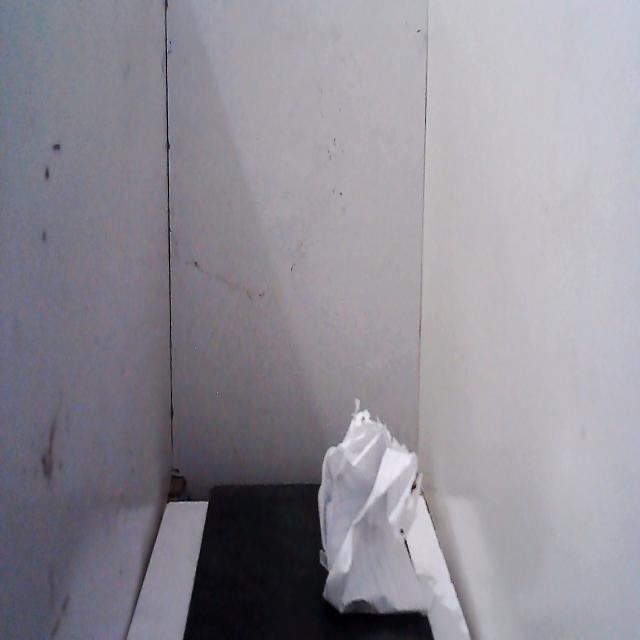papel: (310, 390, 451, 632)
